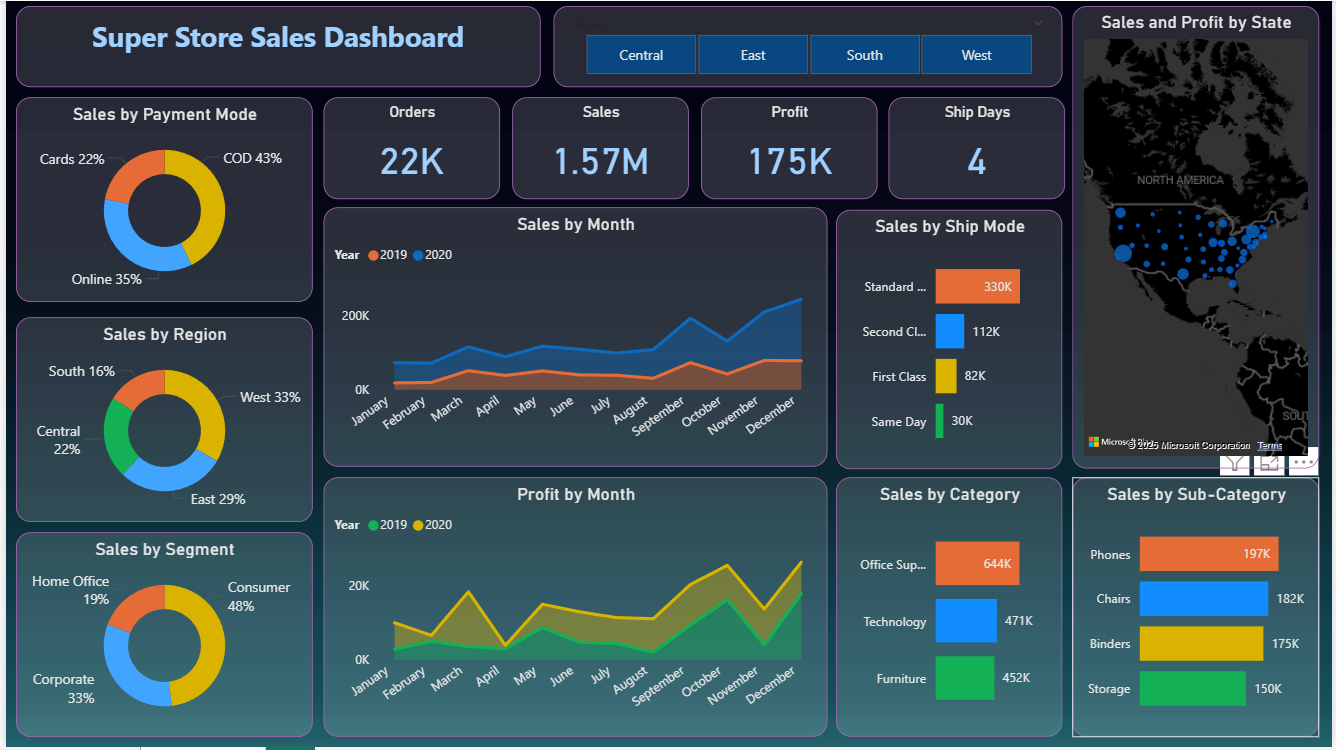

The dashboard page shown, as its layout file describes it:
{"tool":"powerbi","page":{"name":"Dashboard","canvas":[1280,720],"ordinal":0},"visuals":[{"type":"clusteredBarChart","title":"Sales by Category","fields":{"Y":["Sum(SuperStore_Sales_Dataset.Sales)"],"Category":["SuperStore_Sales_Dataset.Category"]},"box":[801.2,460,218.8,250],"z":0},{"type":"clusteredBarChart","title":"Sales by  Sub-Category","fields":{"Y":["Sum(SuperStore_Sales_Dataset.Sales)"],"Category":["SuperStore_Sales_Dataset.Sub-Category"]},"box":[1028.8,460,238.8,250],"z":1000},{"type":"clusteredBarChart","title":"Sales by  Ship Mode","fields":{"Category":["SuperStore_Sales_Dataset.Ship Mode"],"Y":["Sum(SuperStore_Sales_Dataset.Sales)"]},"box":[801.2,201.2,218.8,250],"z":2000},{"type":"stackedAreaChart","title":"Sales by Month ","fields":{"Y":["Sum(SuperStore_Sales_Dataset.Sales)"],"Category":["SuperStore_Sales_Dataset.Order Date.Variation.Date Hierarchy.Month","SuperStore_Sales_Dataset.Order Date.Variation.Date Hierarchy.Day"],"Series":["SuperStore_Sales_Dataset.Order Date.Variation.Date Hierarchy.Year"]},"box":[306.2,198.8,486.2,250],"z":3000},{"type":"stackedAreaChart","title":"Profit by Month ","fields":{"Category":["SuperStore_Sales_Dataset.Order Date.Variation.Date Hierarchy.Month","SuperStore_Sales_Dataset.Order Date.Variation.Date Hierarchy.Day"],"Series":["SuperStore_Sales_Dataset.Order Date.Variation.Date Hierarchy.Year"],"Y":["Sum(SuperStore_Sales_Dataset.Profit)"]},"box":[306.2,460,486.2,250],"z":4000},{"type":"map","title":"Sales and Profit by State","fields":{"Category":["SuperStore_Sales_Dataset.State"],"Size":["Sum(SuperStore_Sales_Dataset.Sales)"]},"box":[1028.8,5,238.8,446.2],"z":5000},{"type":"donutChart","title":"Sales by Segment","fields":{"Category":["SuperStore_Sales_Dataset.Segment"],"Y":["Sum(SuperStore_Sales_Dataset.Sales)"]},"box":[10,512.5,286.2,197.5],"z":6000},{"type":"donutChart","title":"Sales by Payment Mode","fields":{"Y":["Sum(SuperStore_Sales_Dataset.Sales)"],"Category":["SuperStore_Sales_Dataset.Payment Mode"]},"box":[10,92.5,286.2,197.5],"z":7000},{"type":"slicer","fields":{"Values":["SuperStore_Sales_Dataset.Region"]},"box":[528.8,5,491.2,78.8],"z":8000},{"type":"textbox","box":[10,5,506.2,78.8],"z":9000},{"type":"card","title":"Sales","fields":{"Values":["Sum(SuperStore_Sales_Dataset.Sales)"]},"box":[488.8,92.5,170,98.8],"z":10000},{"type":"card","title":"Orders","fields":{"Values":["Sum(SuperStore_Sales_Dataset.Quantity)"]},"box":[306.2,92.5,170,98.8],"z":11000},{"type":"card","title":"Profit","fields":{"Values":["Sum(SuperStore_Sales_Dataset.Profit)"]},"box":[671.2,92.5,170,98.8],"z":12000},{"type":"card","title":"Ship Days","fields":{"Values":["Avg(SuperStore_Sales_Dataset.AvgDelivery)"]},"box":[851.2,92.5,170,98.8],"z":13000},{"type":"donutChart","title":"Sales by Region","fields":{"Category":["SuperStore_Sales_Dataset.Region"],"Y":["Sum(SuperStore_Sales_Dataset.Sales)"]},"box":[10,305,286.2,197.5],"z":14000}]}

Visuals, with their boxes in screenshot pixels (x1, y1, x2, y2), scaled from the page's 1280x720 canvas onto the 1336x750 screenshot:
"Sales by Category" clusteredBarChart: region(836, 479, 1065, 740)
"Sales by  Sub-Category" clusteredBarChart: region(1074, 479, 1323, 740)
"Sales by  Ship Mode" clusteredBarChart: region(836, 210, 1065, 470)
"Sales by Month " stackedAreaChart: region(320, 207, 827, 468)
"Profit by Month " stackedAreaChart: region(320, 479, 827, 740)
"Sales and Profit by State" map: region(1074, 5, 1323, 470)
"Sales by Segment" donutChart: region(10, 534, 309, 740)
"Sales by Payment Mode" donutChart: region(10, 96, 309, 302)
slicer - SuperStore_Sales_Dataset.Region: region(552, 5, 1065, 87)
textbox: region(10, 5, 539, 87)
"Sales" card: region(510, 96, 688, 199)
"Orders" card: region(320, 96, 497, 199)
"Profit" card: region(701, 96, 878, 199)
"Ship Days" card: region(888, 96, 1066, 199)
"Sales by Region" donutChart: region(10, 318, 309, 523)
